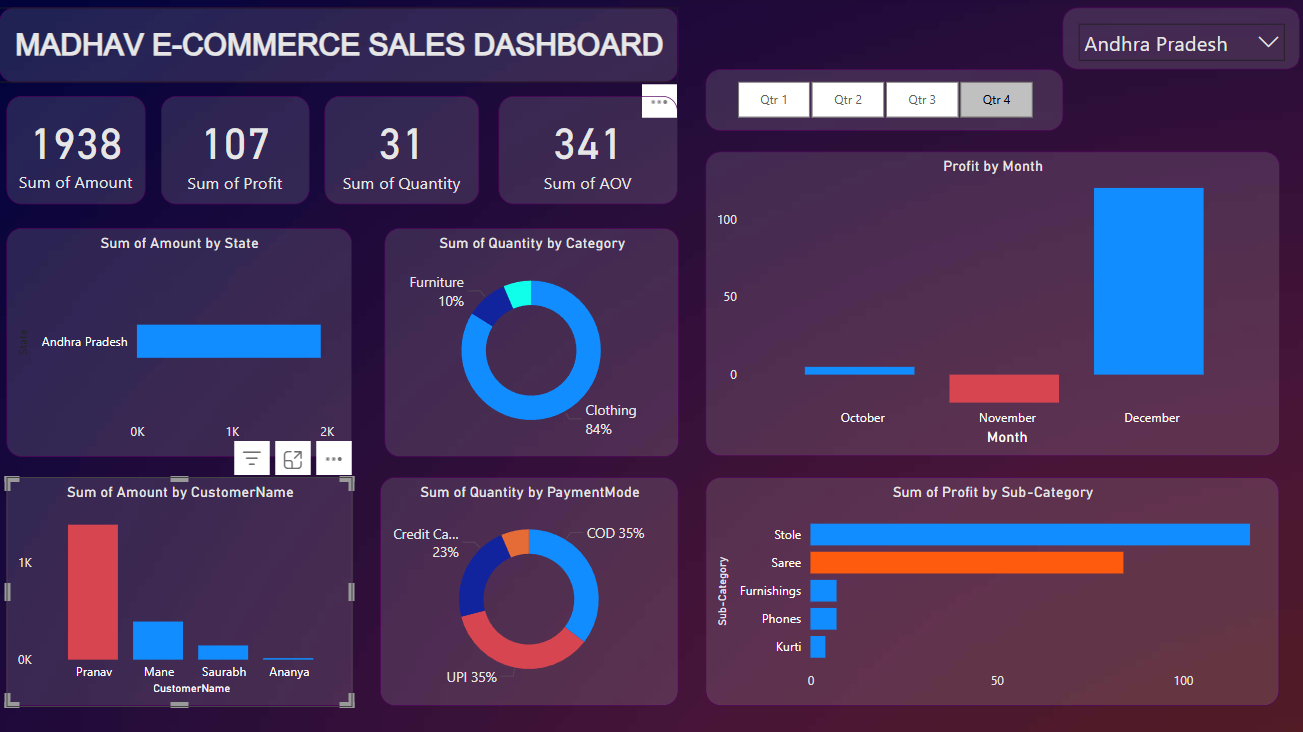

The dashboard page shown, as its layout file describes it:
{"tool":"powerbi","page":{"name":"Page 1","canvas":[1280,720],"ordinal":0},"visuals":[{"type":"textbox","title":"MADHAV E-COMMERCE SALES DASHBOARD","box":[0,10.3,664.7,73.4],"z":0},{"type":"columnChart","title":"Profit by Month","fields":{"Category":["Orders.Order Date.Variation.Date Hierarchy.Month"],"Y":["Details.Profit"]},"box":[690.5,151.4,561.8,298.3],"z":1000},{"type":"barChart","fields":{"Category":["Details.Sub-Category"],"Y":["Details.Profit"]},"box":[691.8,469.5,561.2,223.9],"z":2000},{"type":"donutChart","fields":{"Category":["Details.Category"],"Y":["Details.Quantity"]},"box":[377,225.6,287.7,224.1],"z":3000},{"type":"donutChart","fields":{"Category":["Details.PaymentMode"],"Y":["Details.Quantity"]},"box":[373.1,469.5,292.3,223.9],"z":4000},{"type":"card","fields":{"Values":["Details.Quantity"]},"box":[318,96.9,151.4,106],"z":5000},{"type":"card","fields":{"Values":["Details.Amount"]},"box":[7.6,96.9,136.3,106],"z":6000},{"type":"card","fields":{"Values":["Details.Profit"]},"box":[159,96.9,145.4,106],"z":7000},{"type":"card","fields":{"Values":["Details.AOV"]},"box":[489.1,96.9,175.6,106],"z":8000},{"type":"barChart","fields":{"Category":["Orders.State"],"Y":["Details.Amount"]},"box":[7.6,225.6,337.7,224.1],"z":9000},{"type":"columnChart","fields":{"Category":["Orders.CustomerName"],"Y":["Details.Amount"]},"box":[7.6,469.4,339.2,224.1],"z":10000},{"type":"slicer","fields":{"Values":["Orders.Order Date.Variation.Date Hierarchy.Quarter"]},"box":[690.5,71.2,349.8,60.6],"z":11000},{"type":"slicer","fields":{"Values":["Orders.State"]},"box":[1040.3,10.6,233.2,60.6],"z":11001}]}

Visuals, with their boxes in screenshot pixels (x1, y1, x2, y2), scaled from the page's 1280x720 canvas onto the 1303x732 screenshot:
"MADHAV E-COMMERCE SALES DASHBOARD" textbox: <bbox>0, 10, 677, 85</bbox>
"Profit by Month" columnChart: <bbox>703, 154, 1275, 457</bbox>
barChart - Details.Sub-Category x Details.Profit: <bbox>704, 477, 1276, 705</bbox>
donutChart - Details.Category x Details.Quantity: <bbox>384, 229, 677, 457</bbox>
donutChart - Details.PaymentMode x Details.Quantity: <bbox>380, 477, 677, 705</bbox>
card - Details.Quantity: <bbox>324, 99, 478, 206</bbox>
card - Details.Amount: <bbox>8, 99, 146, 206</bbox>
card - Details.Profit: <bbox>162, 99, 310, 206</bbox>
card - Details.AOV: <bbox>498, 99, 677, 206</bbox>
barChart - Orders.State x Details.Amount: <bbox>8, 229, 352, 457</bbox>
columnChart - Orders.CustomerName x Details.Amount: <bbox>8, 477, 353, 705</bbox>
slicer - Orders.Order Date.Variation.Date Hierarchy.Quarter: <bbox>703, 72, 1059, 134</bbox>
slicer - Orders.State: <bbox>1059, 11, 1296, 72</bbox>
